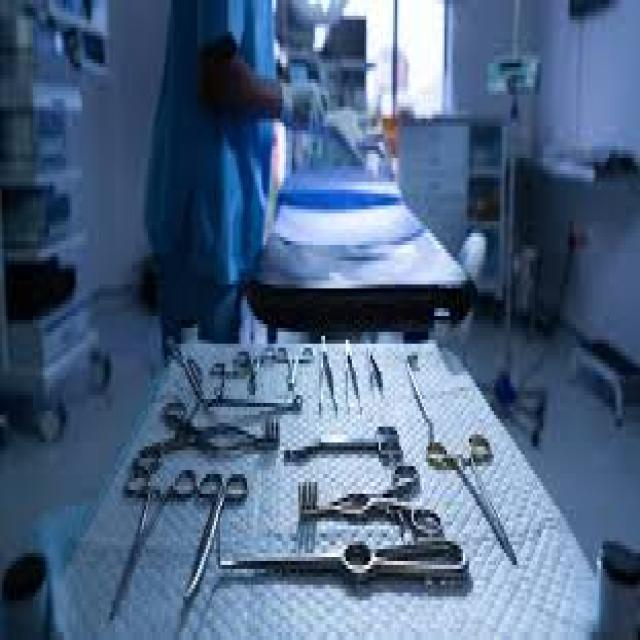tools_table: (82, 333, 590, 640)
